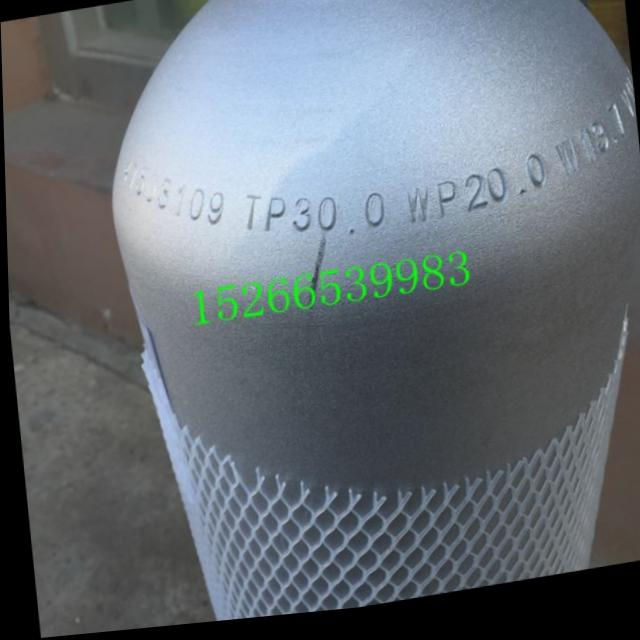ocr: (403, 153, 553, 239), (112, 148, 224, 239), (545, 108, 632, 190), (239, 188, 345, 247), (356, 189, 396, 245)
